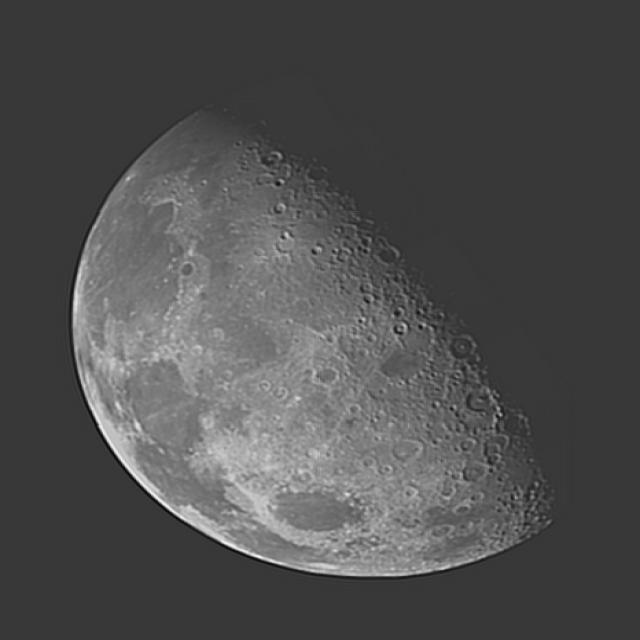moon_pit: (444, 325, 506, 428)
